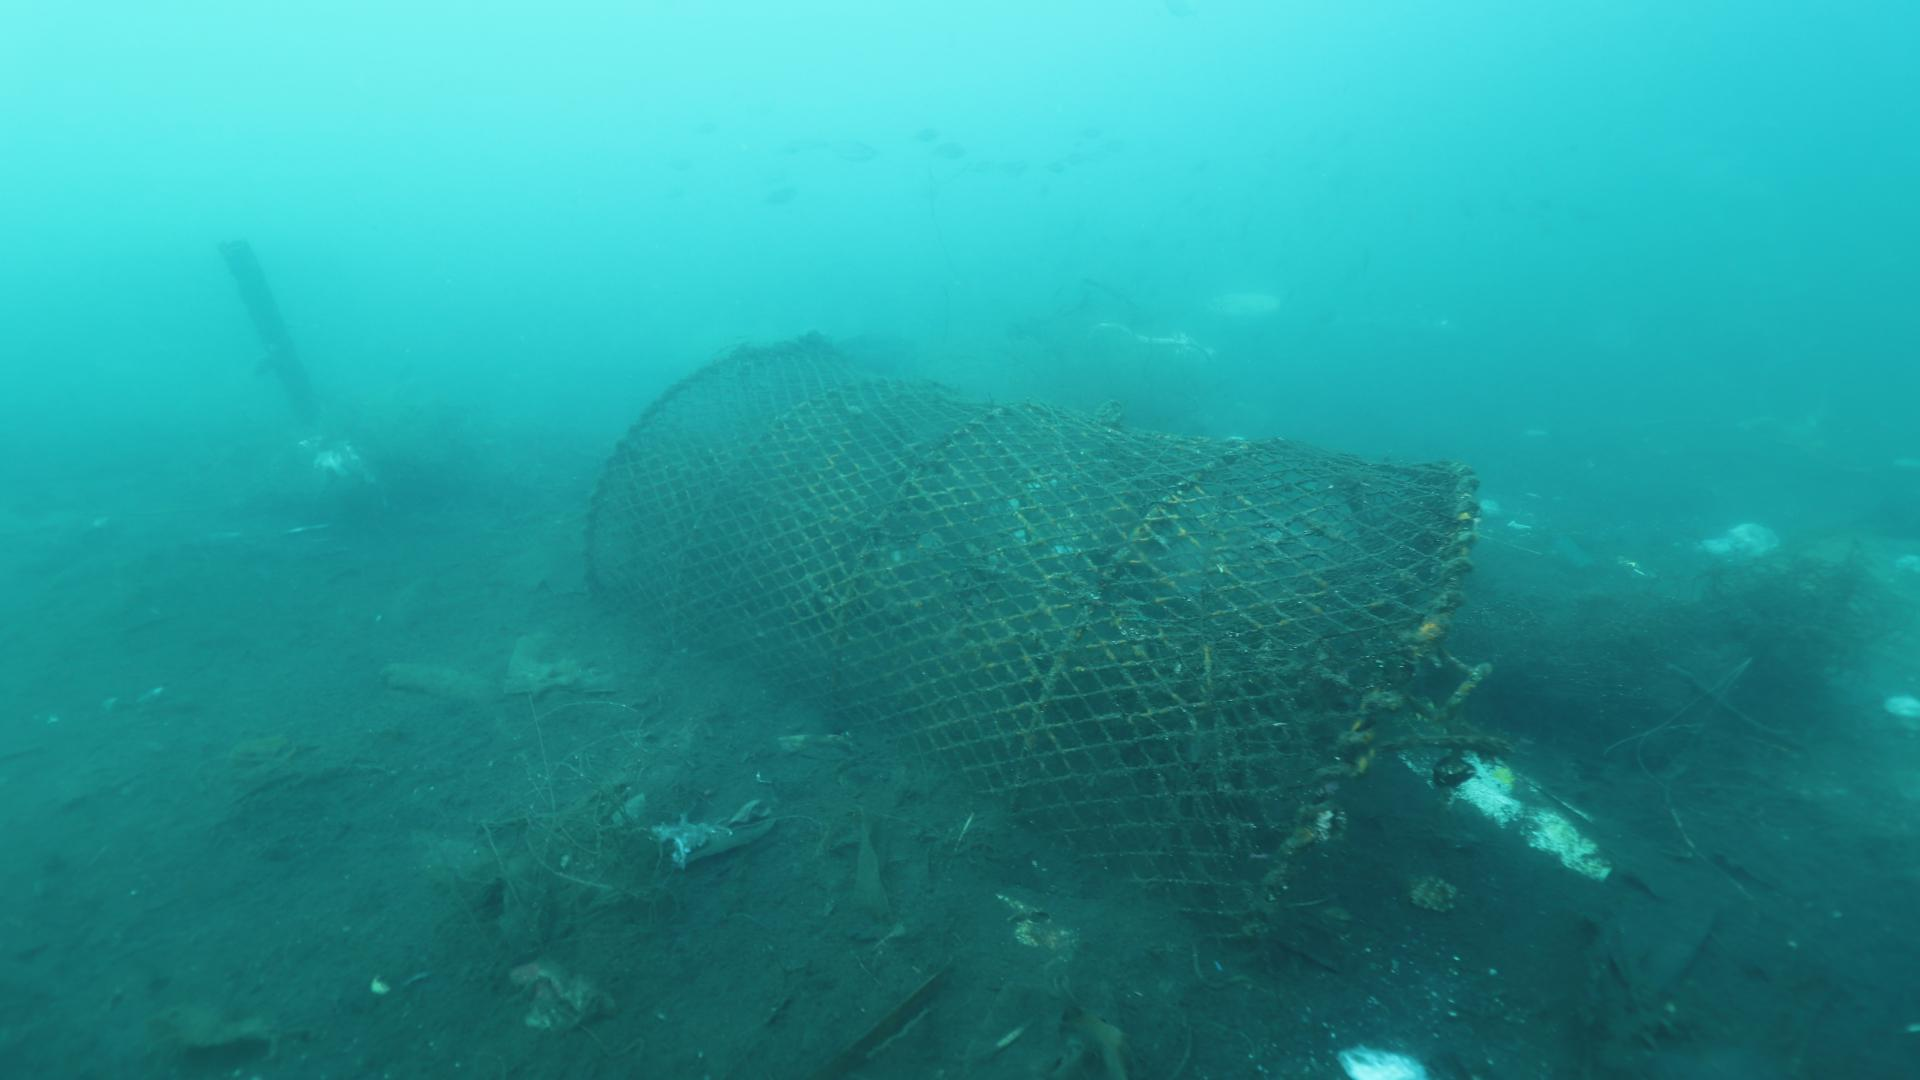spring fish trap: (582, 335, 1487, 963)
